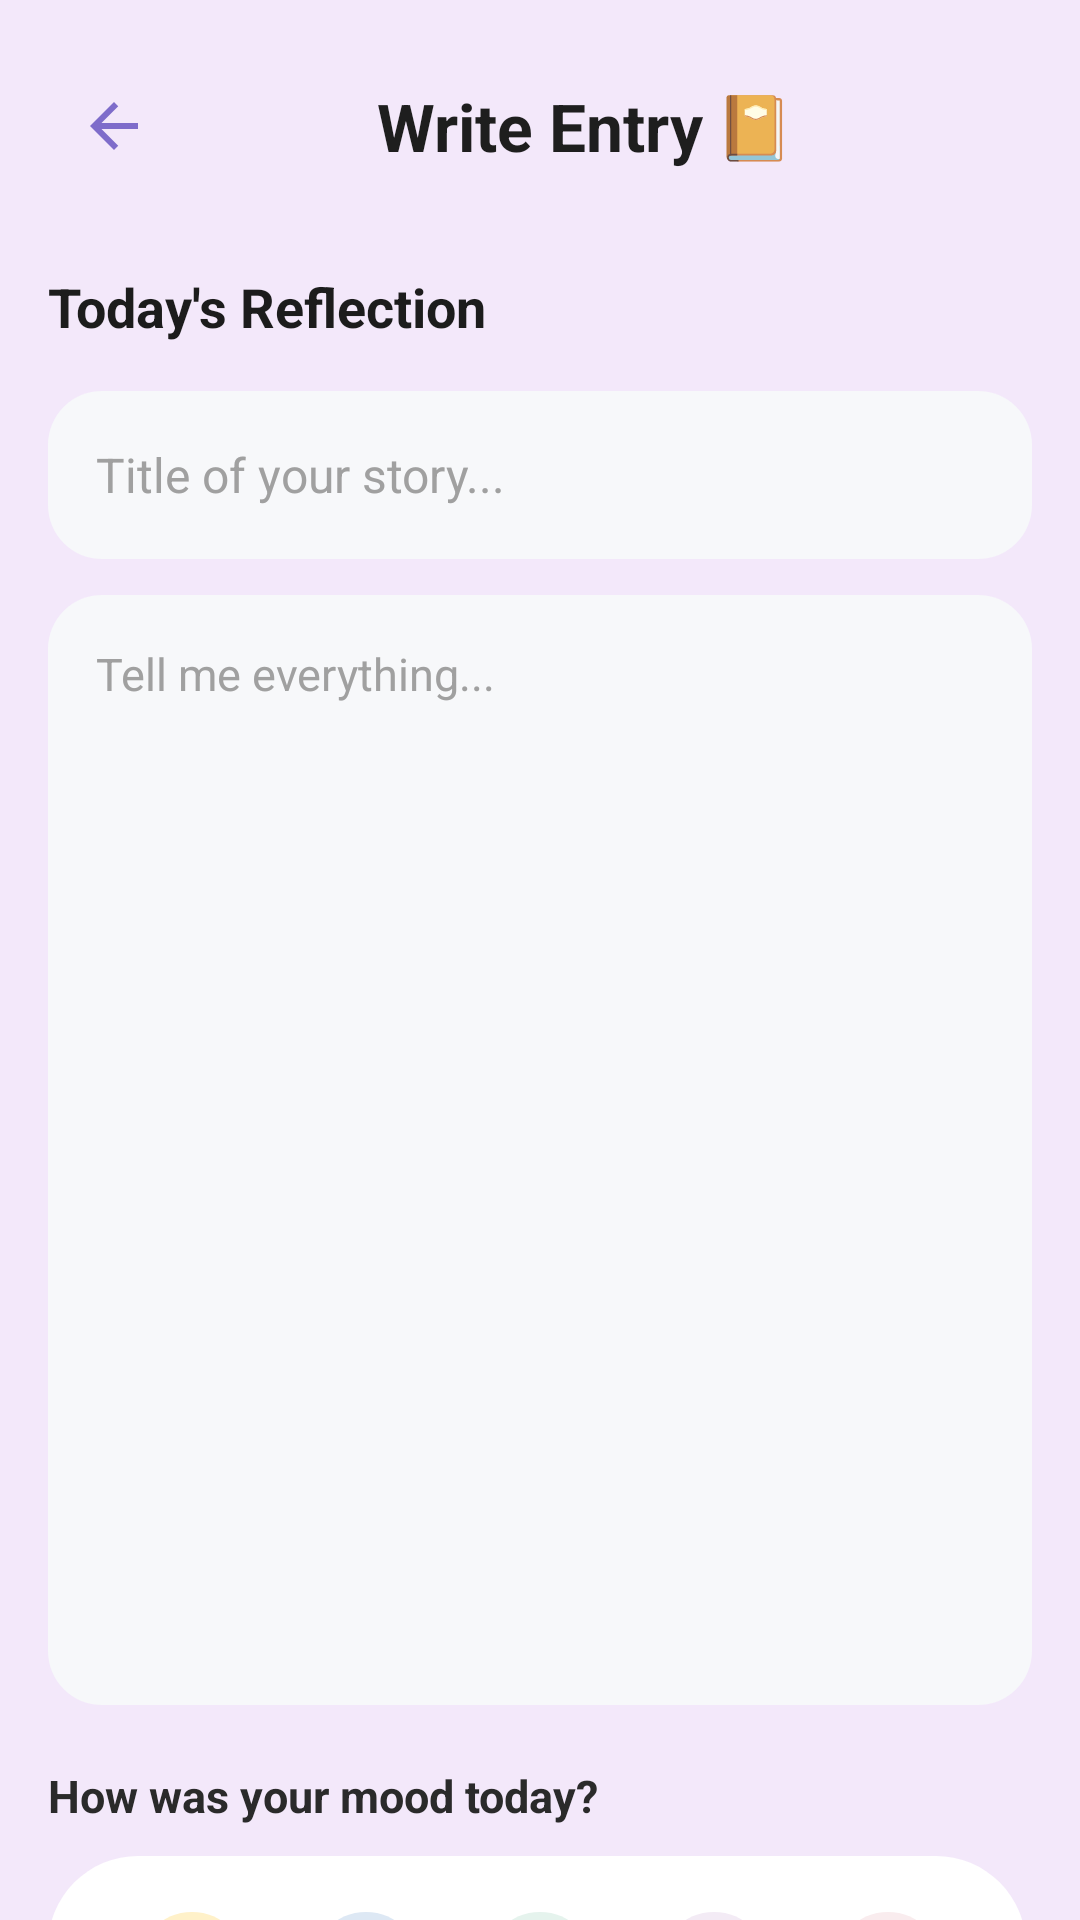

Locate icon controls on the screen. Image size 1080×1920, boxes as (x1, y1, x2, y2).
Back: (90, 102, 138, 150)
